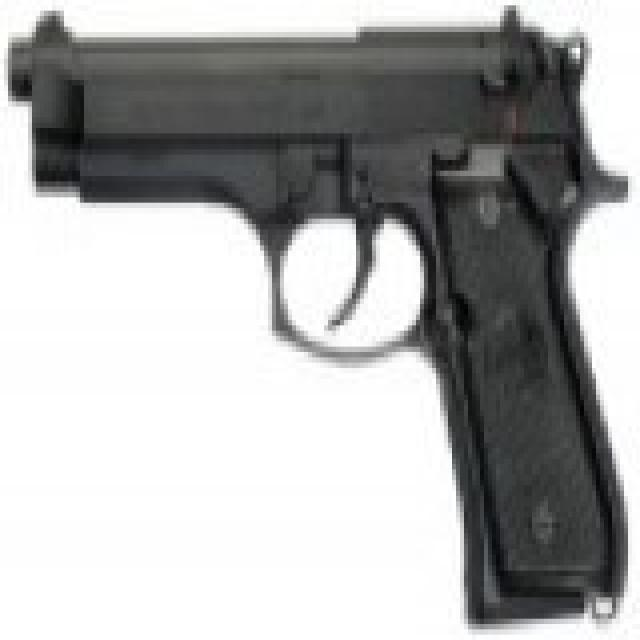gun: (12, 18, 640, 637)
